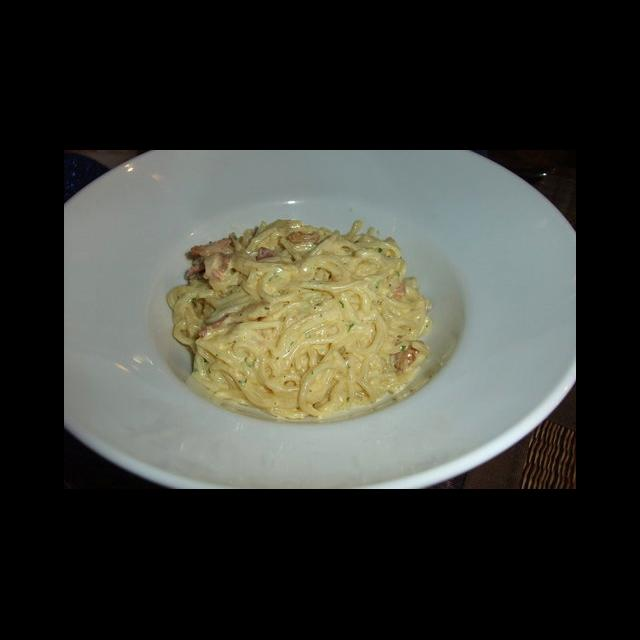noodles: (167, 218, 435, 420)
